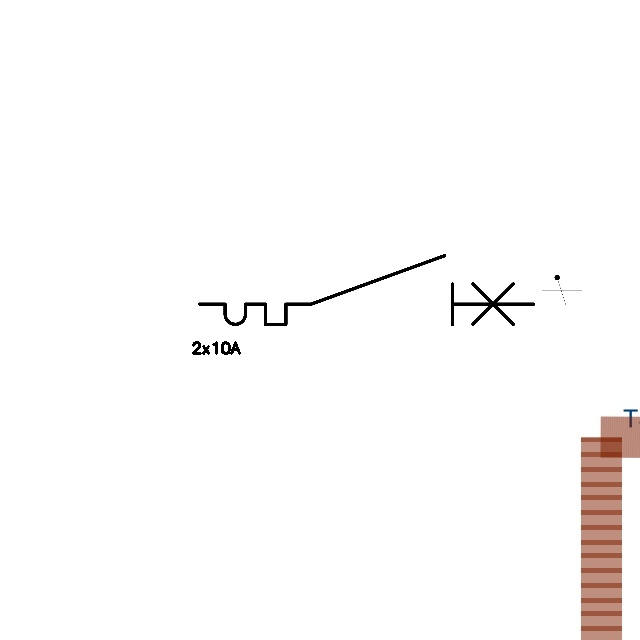interruptor_termomagnetico: (191, 247, 543, 333)
